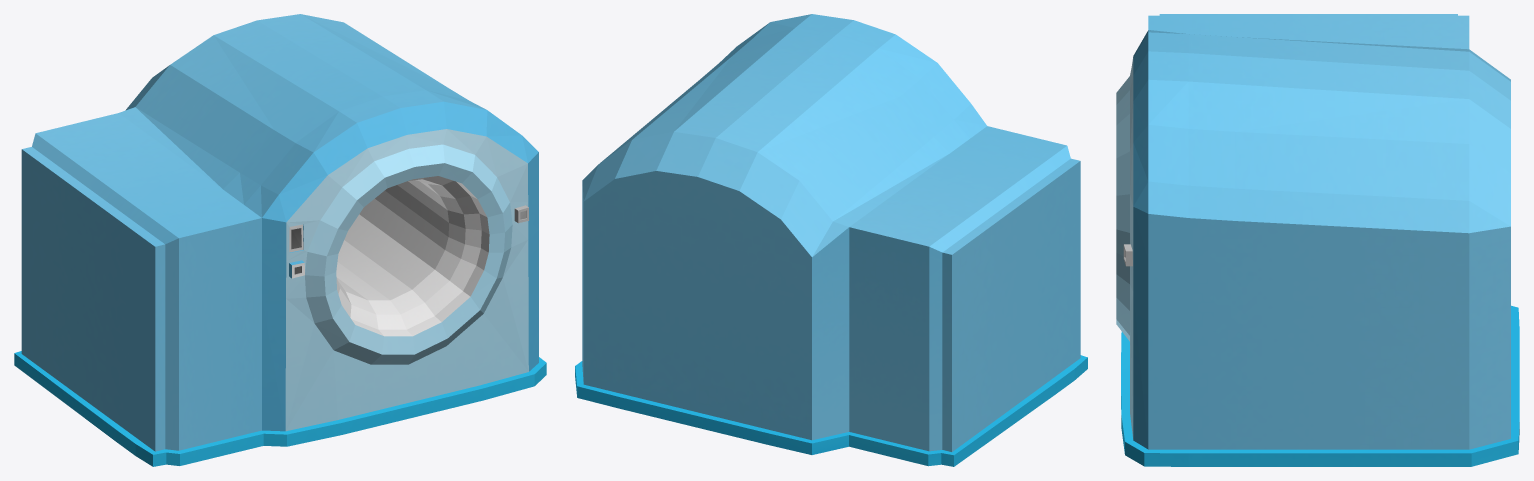
Rendered from mri.fbx.
3 views of the same model, side by side, from view 1: azimuth 30°, elevation 25°; view 2: azimuth 150°, elevation 25°; view 3: azimuth 270°, elevation 25° (orthographic). The views are drawn at different scales.
Visible parts, largest first — view 1: mri; view 2: mri; view 3: mri.
Boxes of the visible parts, left/top/right/bottom form: mri: left=14, top=14, right=546, bottom=466; mri: left=575, top=14, right=1087, bottom=466; mri: left=1116, top=14, right=1519, bottom=466.
Size of the model in its own units: 2.01 by 1.48 by 1.6.
